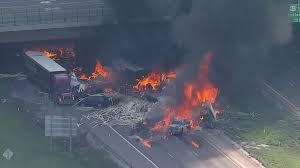fire: (140, 61, 224, 143), (132, 65, 177, 91), (77, 58, 113, 79), (41, 46, 73, 58)
